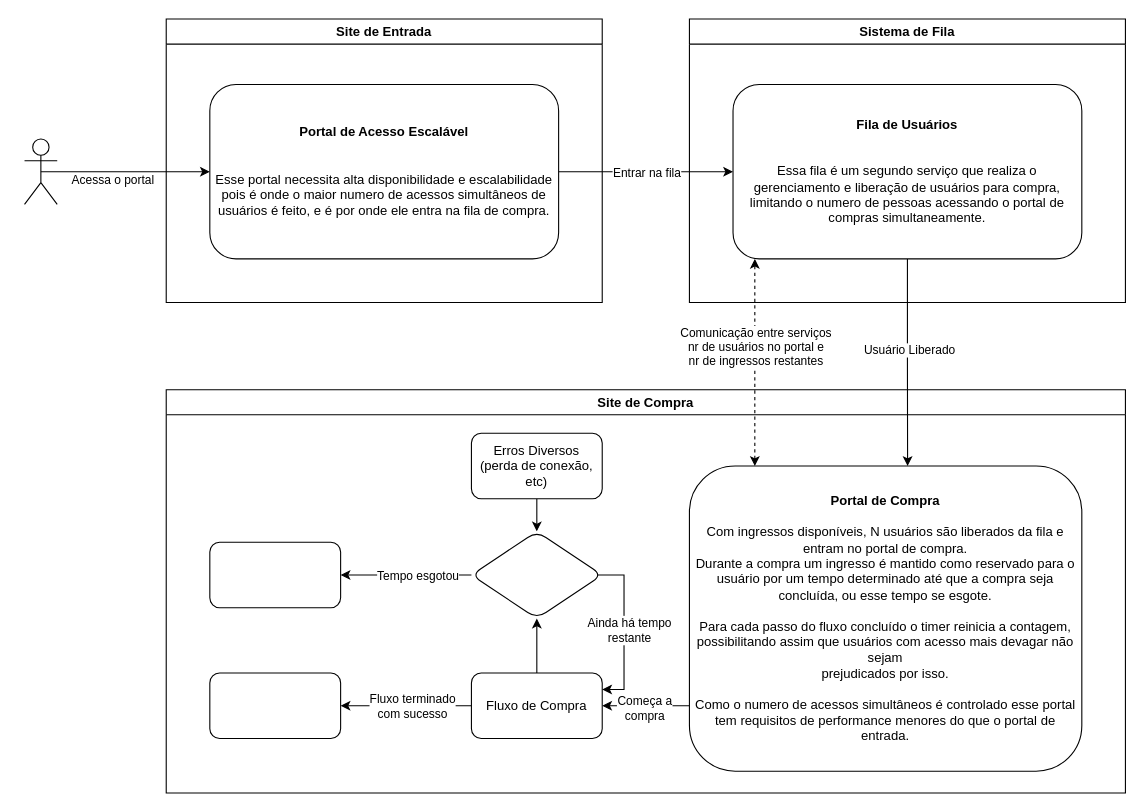
Some shapes in this 1145 by 812 pixel diagram are drawn without their labels. Here are the shapes that lost their labels. From the top down, the centre of each, then its label:
(x=40, y=171): Usuário
(x=275, y=574): Compra Cancelada
(x=536, y=574): Tempo da Sessão
(x=275, y=705): Compra Finalizada
